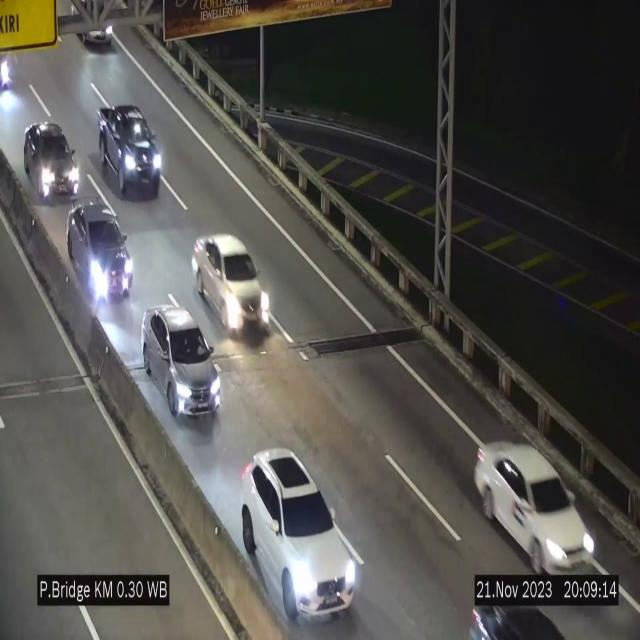Car: (242, 450, 359, 624), (472, 433, 598, 571), (141, 305, 221, 419), (192, 234, 269, 333), (94, 108, 164, 206), (70, 190, 128, 300), (22, 114, 82, 206)
